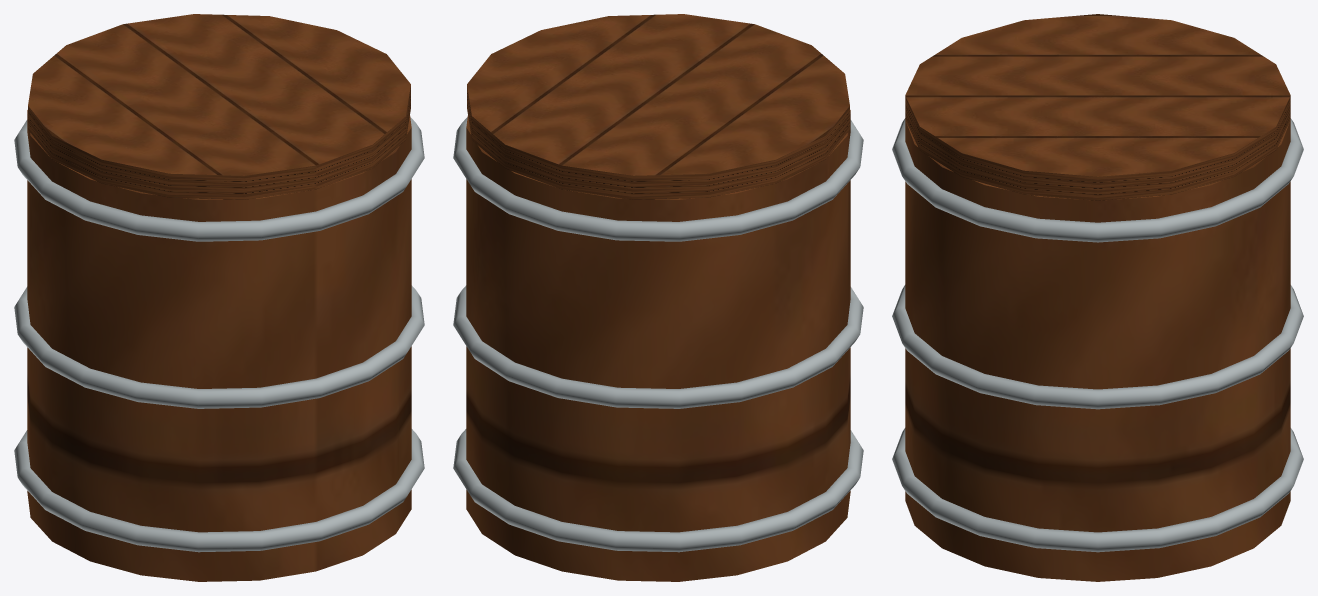
The model's file is survival-food-and-preservation-pickle-barrel-38fa573a__21783.glb.
The picture shows the model from 3 angles, left to right: view 1: azimuth 30°, elevation 25°; view 2: azimuth 150°, elevation 25°; view 3: azimuth 270°, elevation 25°; orthographic projection.
Visible parts, largest first — view 1: pickle-barrel; view 2: pickle-barrel; view 3: pickle-barrel.
Boxes of the visible parts, left/top/right/bottom form: pickle-barrel: left=14, top=14, right=424, bottom=581; pickle-barrel: left=453, top=14, right=863, bottom=581; pickle-barrel: left=892, top=14, right=1303, bottom=581.
Bounding box in the file's own units: 0.47 × 0.51 × 0.47.
Materials: 2 (1 with a texture image).
